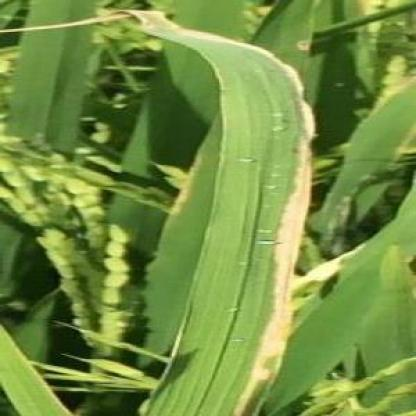Blight: (226, 116, 321, 416)
